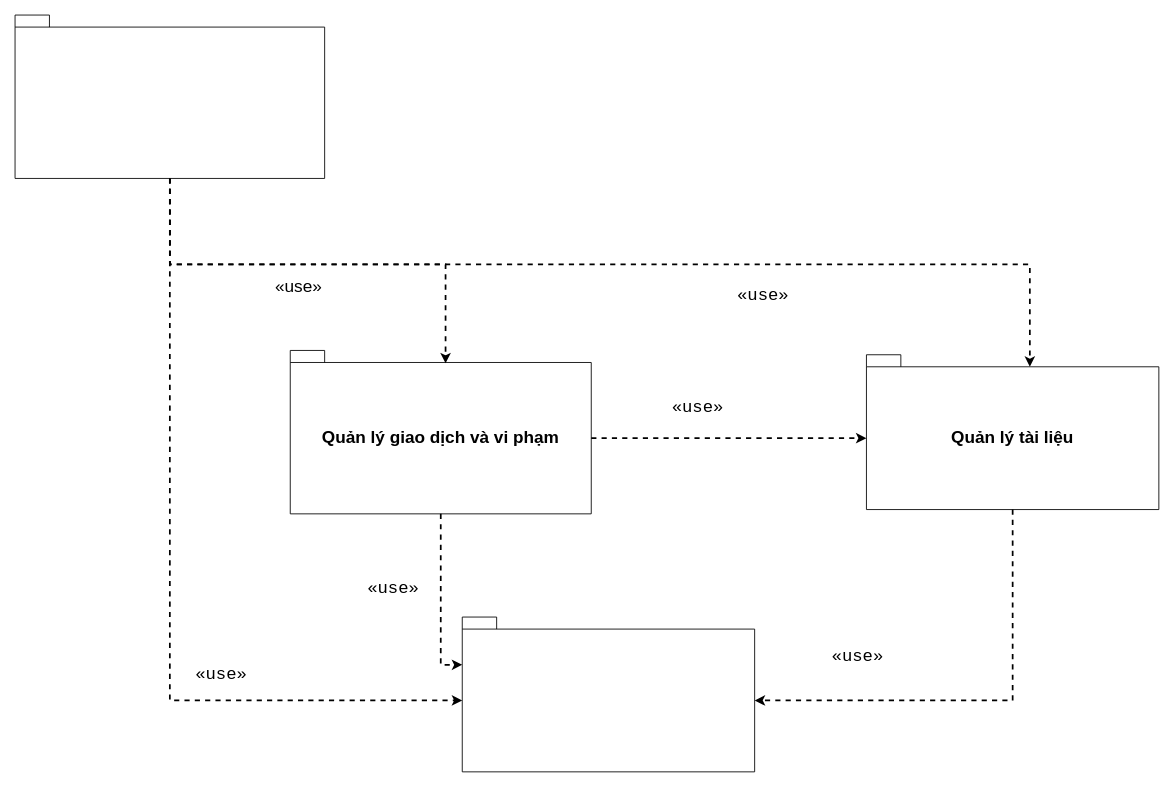
Some shapes in this 1174 by 787 pixel diagram are drawn without their labels. Here are the shapes that lost their labels. From the top down, the centre of each, then its label:
At point 169,96: "Quản trị và thống kê".
At point 608,694: "Người dùng".
